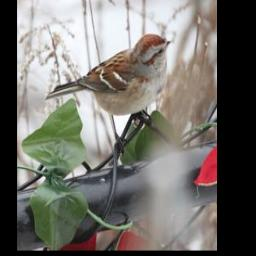Sparrow: (44, 33, 171, 154)
